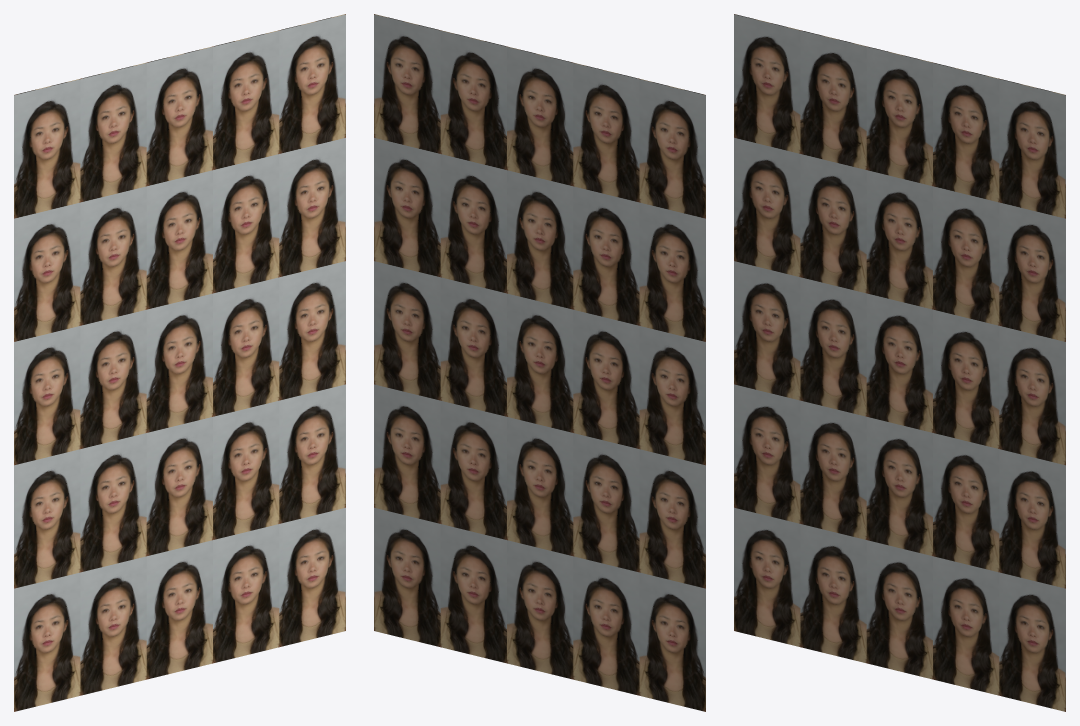
The picture shows the model from 3 angles, left to right: view 1: azimuth 30°, elevation 25°; view 2: azimuth 150°, elevation 25°; view 3: azimuth 330°, elevation 25°; orthographic projection.
Parts seen in each view (by area): view 1: Plane_1; view 2: Plane_1; view 3: Plane_1.
Part boxes in pixels (x1,y1,x2,y2): Plane_1: [14, 14, 345, 711]; Plane_1: [374, 14, 705, 711]; Plane_1: [734, 14, 1065, 711].
Bounding box in the file's own units: 720 × 1280 × 3.63e-13.
Materials: 1 (1 with a texture image).
